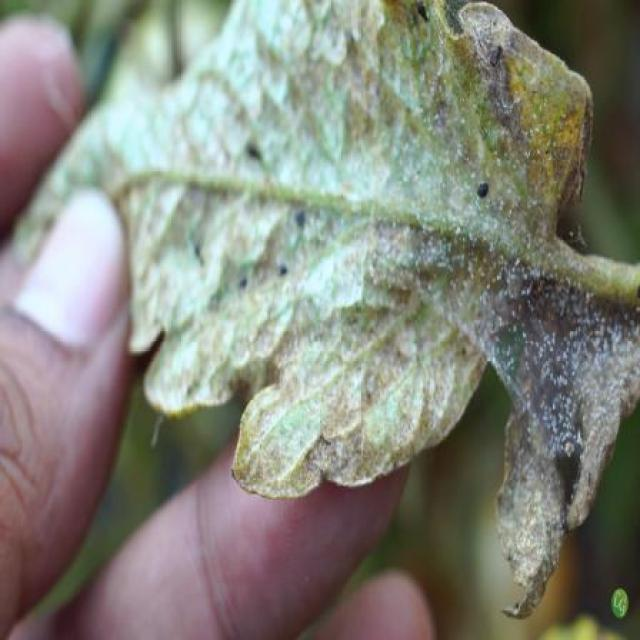Spider Mites: (43, 0, 640, 617)
